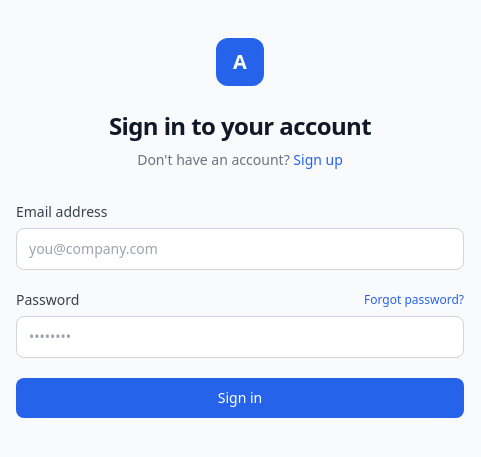
LoginPage › shows validation errors and blocks submission with invalid input
Click the button "Sign in" at (240, 398), box x1=16 y1=378 x2=464 y2=418
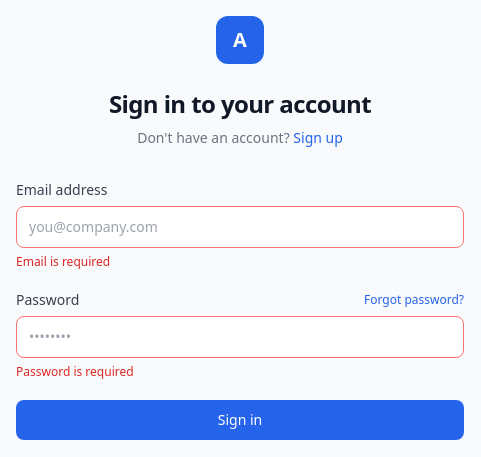
Now the text "Email is required" is shown, box x1=16 y1=253 x2=110 y2=270
Now the text "Password is required" is shown, box x1=16 y1=363 x2=134 y2=380
